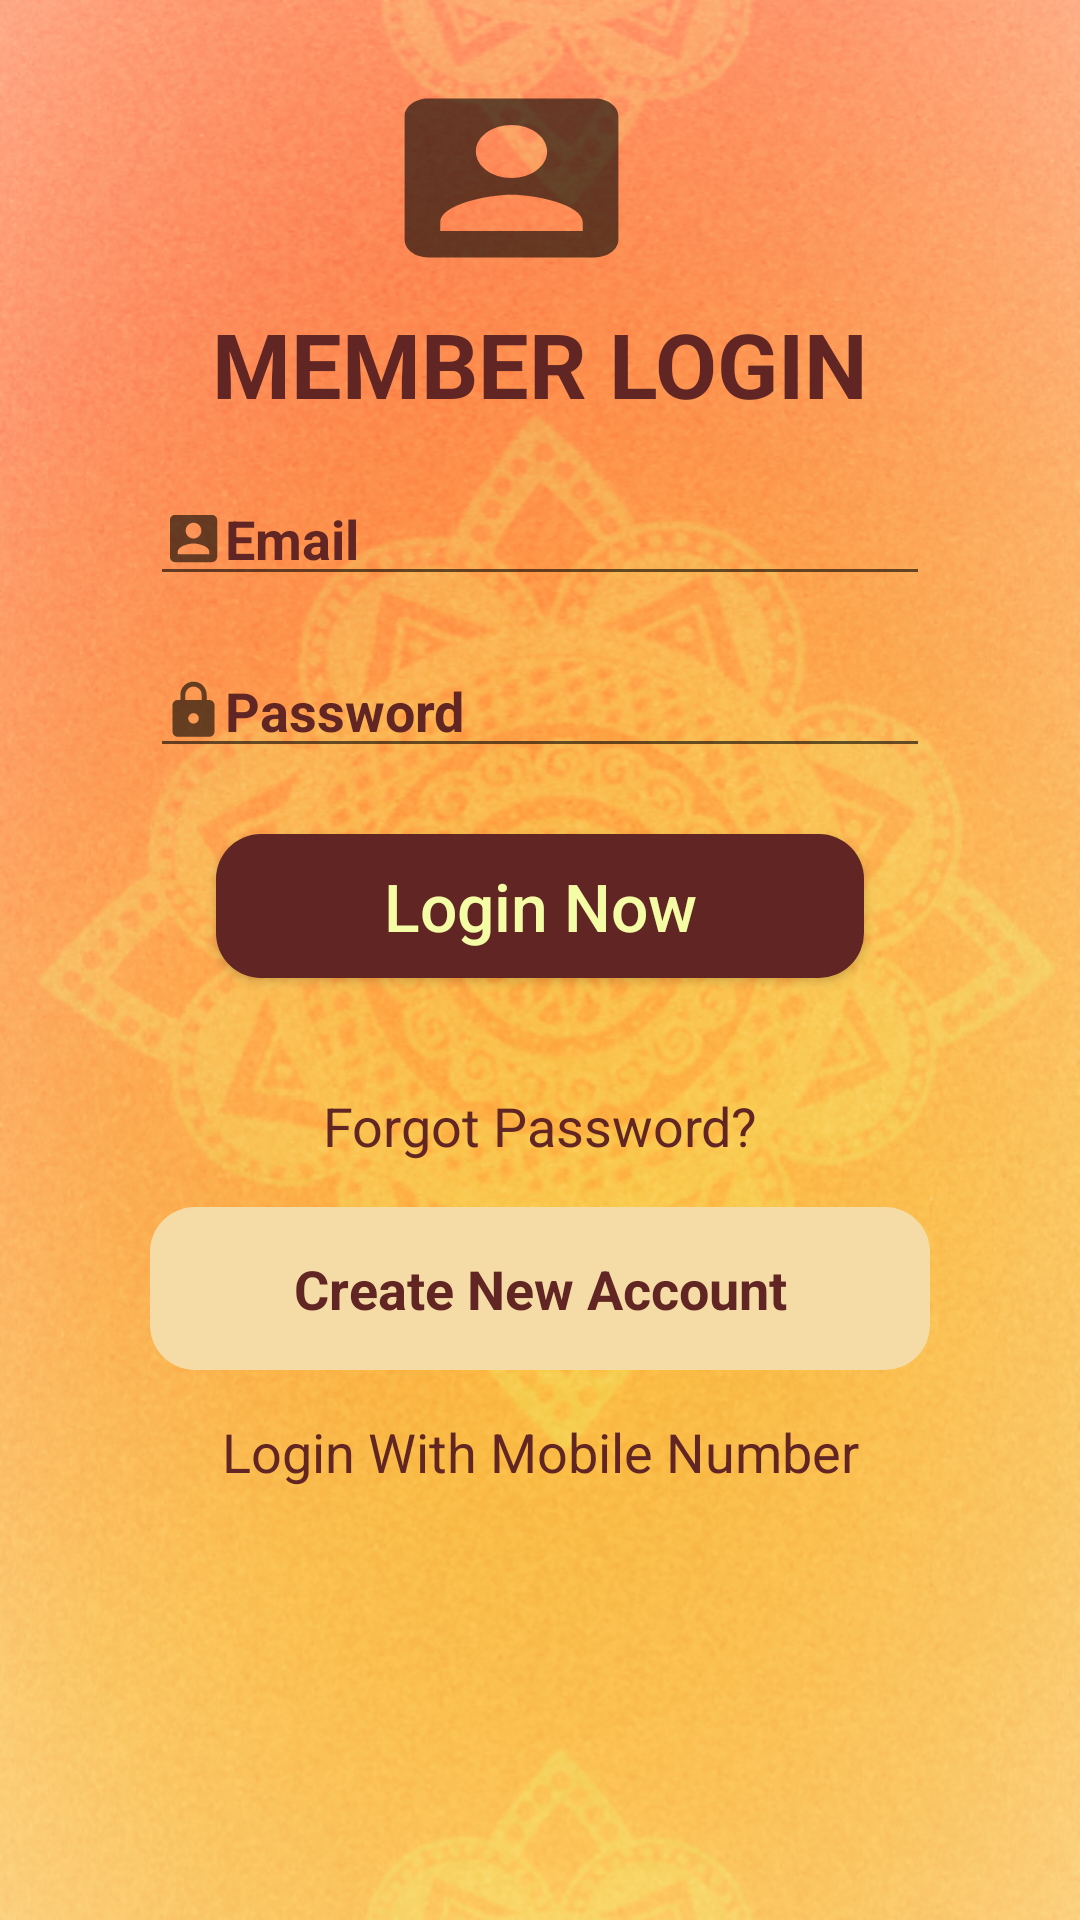

Icon click points for this 1080 × 1920 phone screenshot, format point (x, y):
user: point (529, 165)
